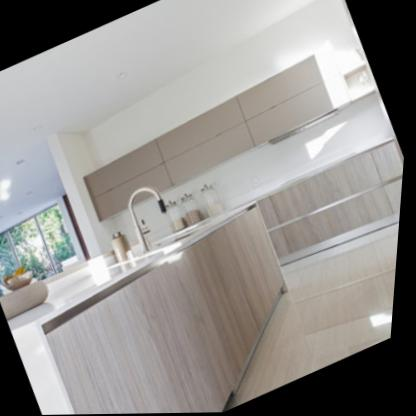Cabinet: (85, 53, 338, 223), (256, 137, 408, 262)
